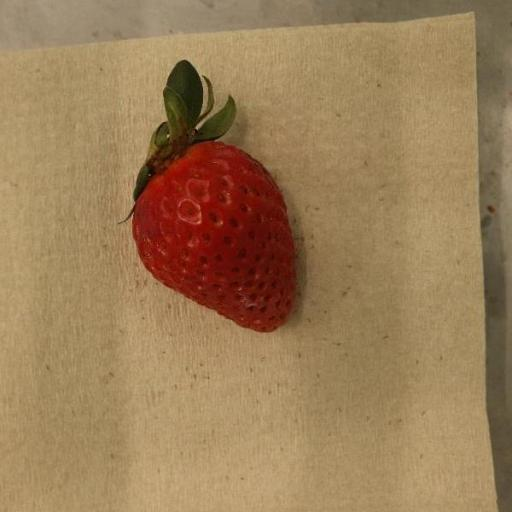Strawberry: (133, 61, 296, 334)
